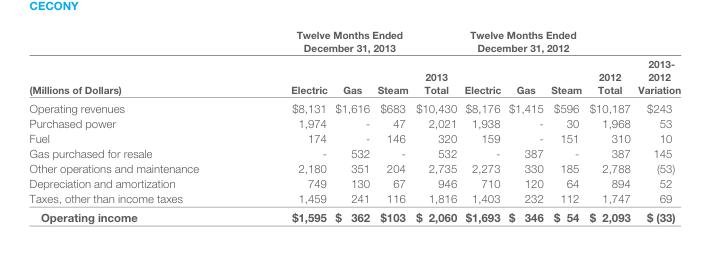table: (28, 28, 680, 223)
table column: (28, 28, 244, 223), (244, 28, 330, 223), (584, 28, 633, 223), (411, 28, 459, 223), (633, 28, 680, 223), (459, 28, 504, 223), (330, 28, 372, 223), (504, 28, 546, 223), (372, 28, 411, 223), (546, 28, 584, 223)
table column header: (28, 28, 680, 97)
table row: (28, 28, 680, 67), (28, 67, 680, 97), (28, 97, 680, 114), (28, 190, 680, 207), (28, 114, 680, 130), (28, 207, 680, 223), (28, 130, 680, 145), (28, 145, 680, 160), (28, 160, 680, 175), (28, 175, 680, 190)
table spanning cell: (28, 28, 244, 97), (244, 28, 411, 67), (459, 28, 584, 67), (584, 28, 633, 97), (411, 28, 459, 97), (633, 28, 680, 97)
